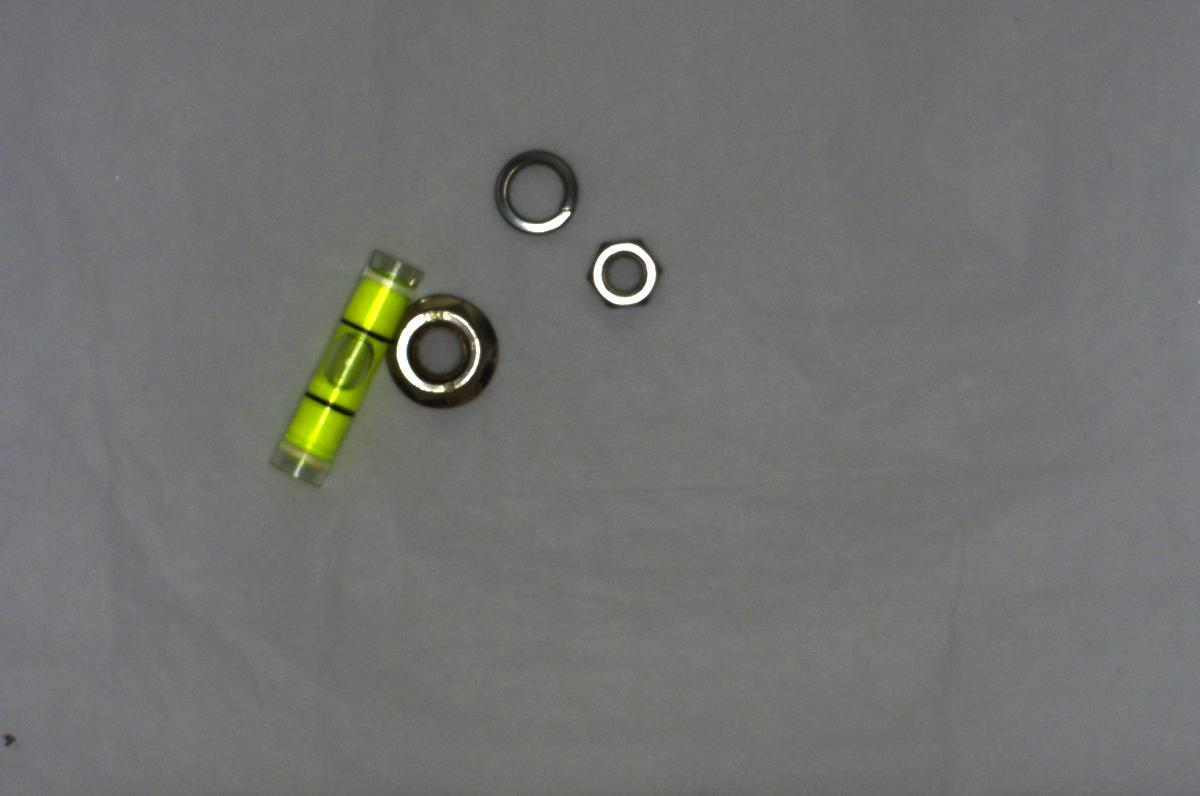Flange nut: (384, 293, 511, 413)
Hexagon nut: (578, 230, 679, 316)
Horizontal bubble: (267, 234, 426, 485)
Spring washer: (484, 138, 590, 241)
